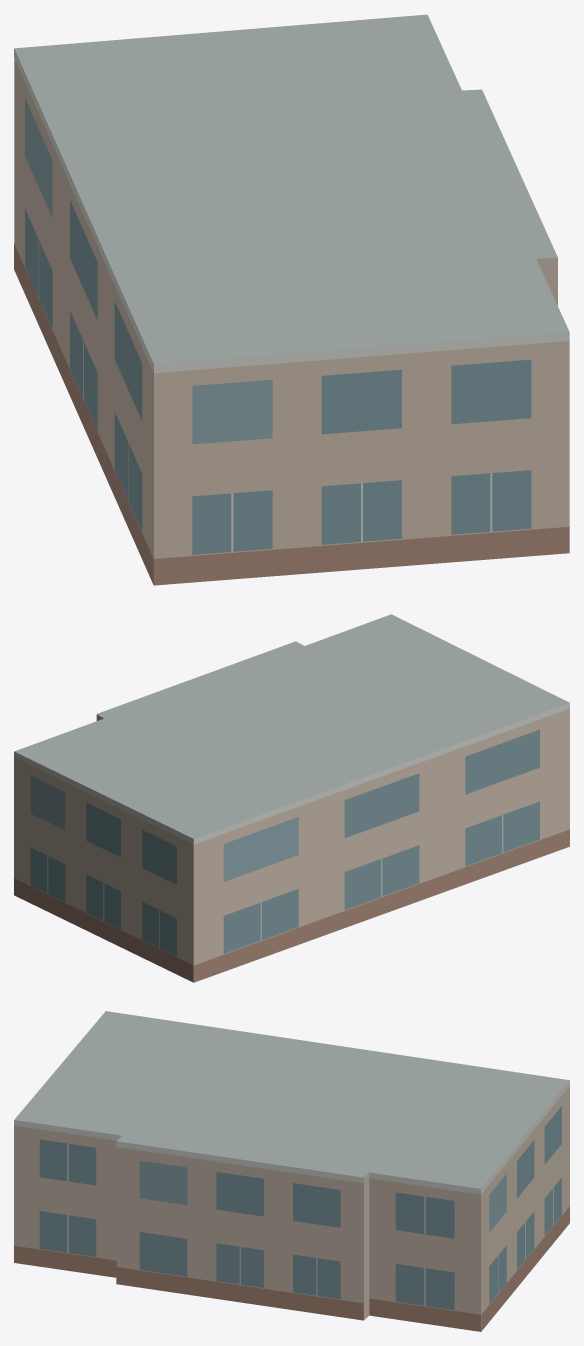
Rendered from survey-upis-32513096.glb.
3 renders of one model, top to bottom at view 1: azimuth 30°, elevation 25°; view 2: azimuth 150°, elevation 25°; view 3: azimuth 270°, elevation 25°, orthographic. The views are drawn at different scales.
Visible parts, largest first — view 1: survey-upis-32513096.tmp; view 2: survey-upis-32513096.tmp; view 3: survey-upis-32513096.tmp.
Boxes of the visible parts, x1,y1,x2,y2 form: survey-upis-32513096.tmp: (14, 14, 569, 585); survey-upis-32513096.tmp: (14, 614, 569, 982); survey-upis-32513096.tmp: (14, 1011, 569, 1331).
Bounding box in the file's own units: 16.3 × 6.1 × 21.51.
